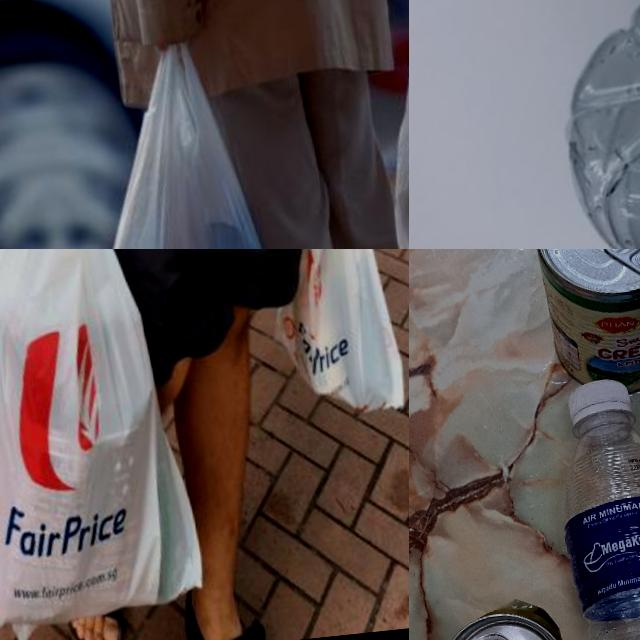aba de lata: (600, 249, 640, 284)
garrafa plástica: (548, 365, 640, 640), (549, 0, 640, 249)
lata: (533, 249, 640, 398), (433, 593, 607, 640)
sacola plástica: (0, 249, 211, 640), (63, 40, 286, 249), (250, 249, 409, 442), (371, 0, 409, 249)
tampa plástica: (562, 377, 633, 427)
